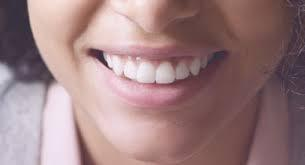normal: (136, 57, 159, 86), (153, 58, 176, 85), (124, 55, 139, 82), (174, 59, 191, 80), (111, 52, 125, 76), (190, 54, 204, 76), (200, 51, 212, 70), (105, 50, 114, 69)
